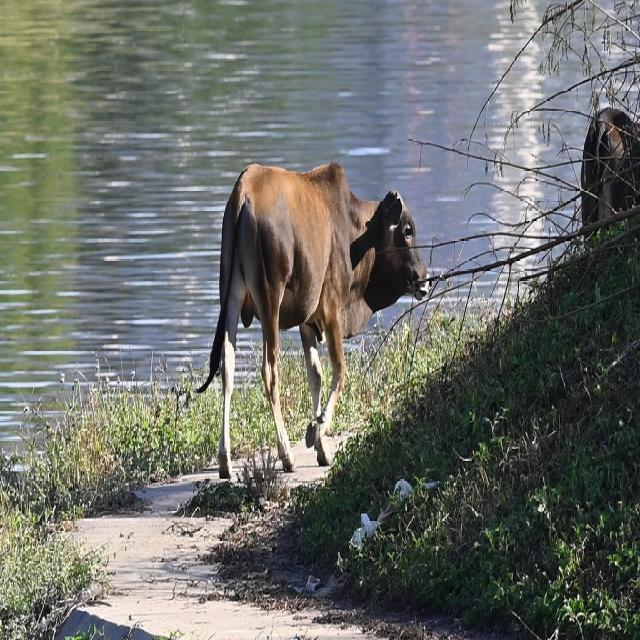cow: (200, 164, 429, 478)
